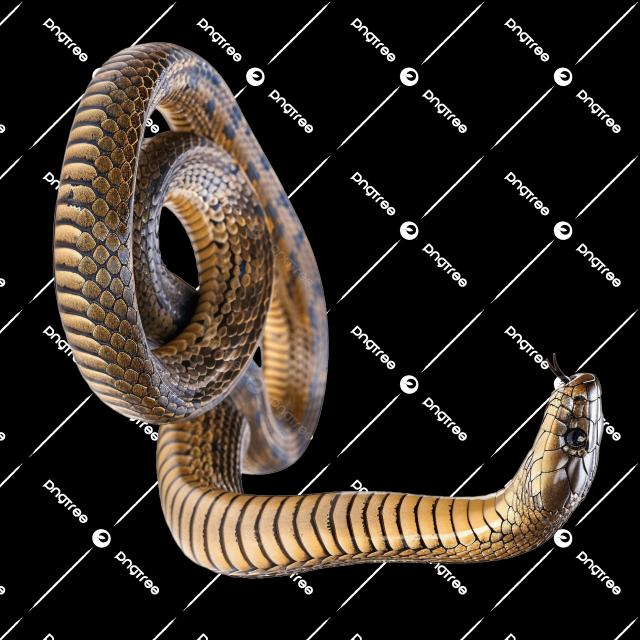Venomous: (481, 352, 616, 564)
